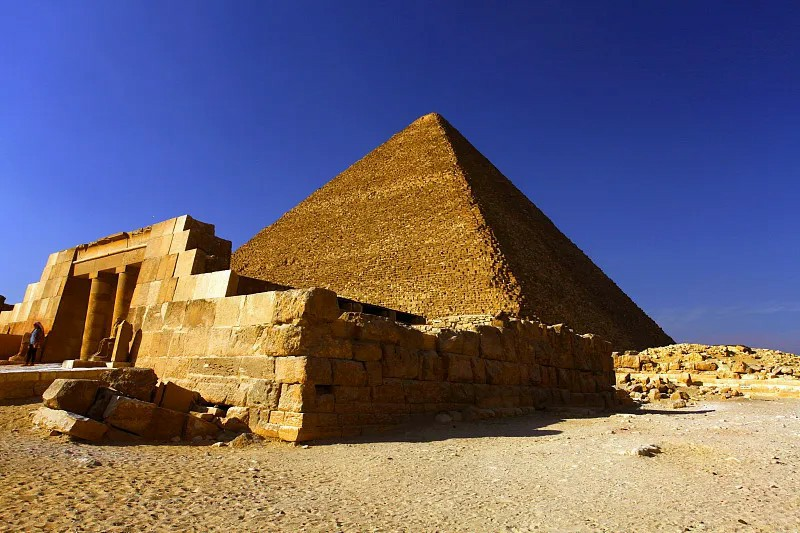Pyramid: (230, 112, 675, 352)
